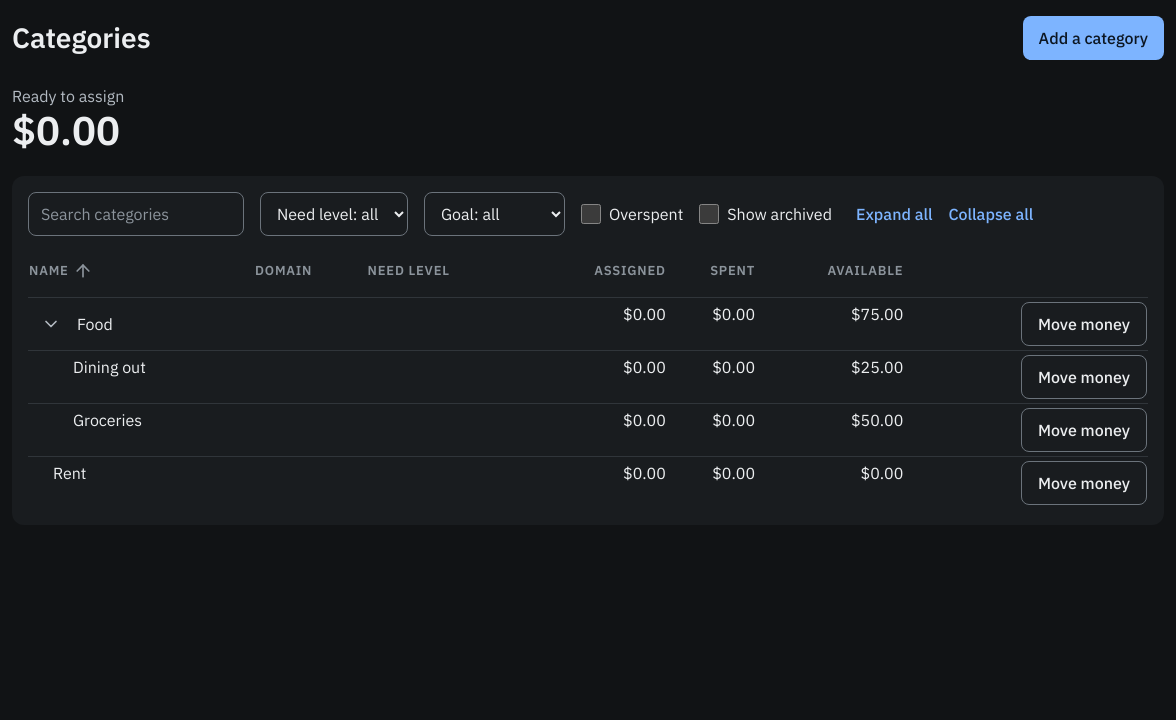
Test case: rows and groups (#286) › a search expands a collapsed group holding a match
Expected: the text "Rent" is shown, left=53, top=463, right=86, bottom=483
Click the button named "Collapse Food" at (51, 324), box left=29, top=302, right=73, bottom=346
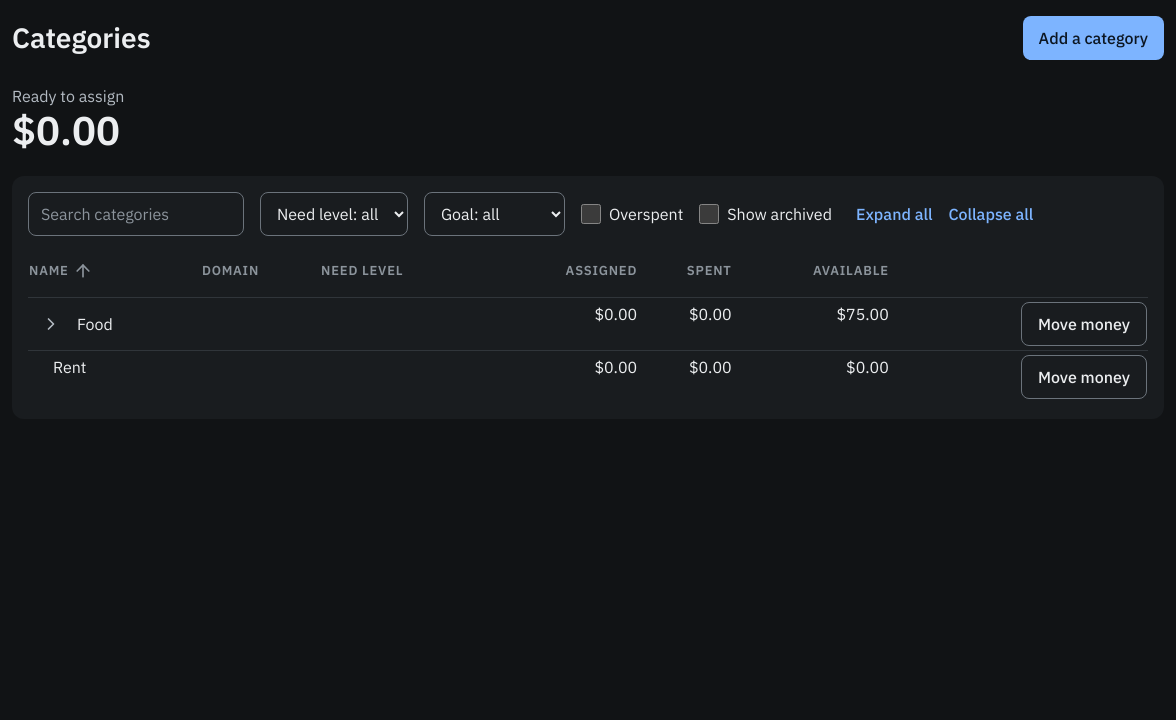
Now the text "Groceries" is gone
Type "groc" into the field labelled "Search categories" at (136, 214), box left=28, top=192, right=244, bottom=236
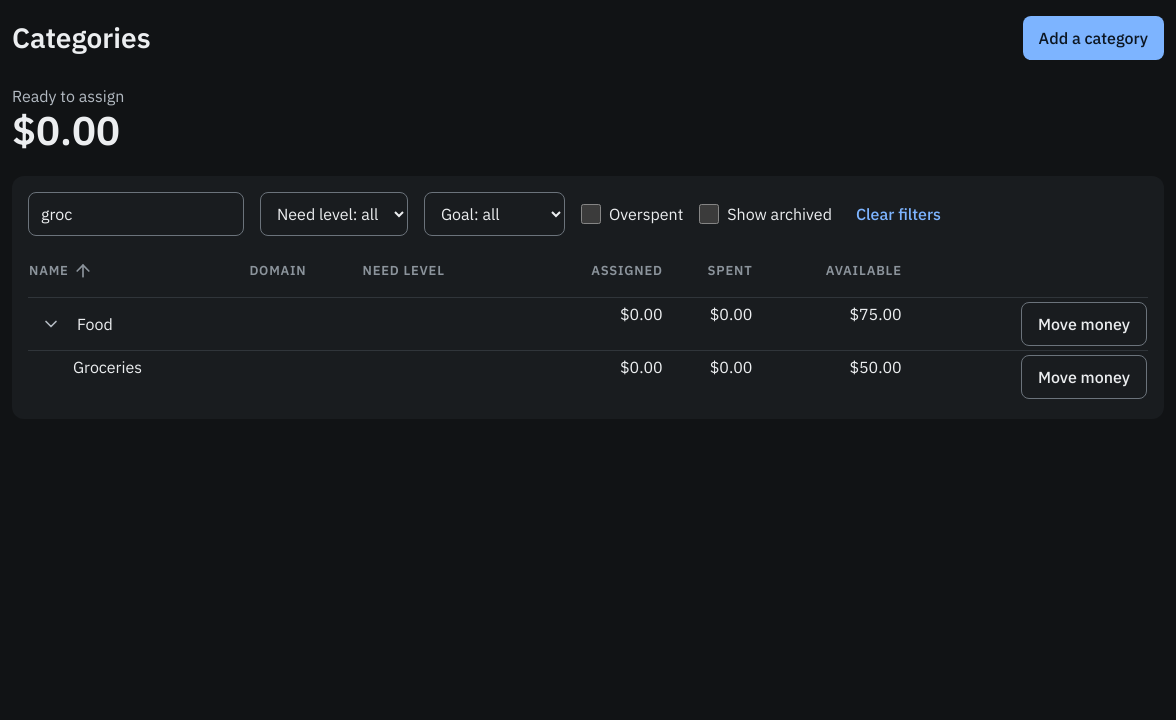
Expected: the text "Dining out" is not shown
Now the text "Groceries" is shown, box left=73, top=357, right=142, bottom=377
